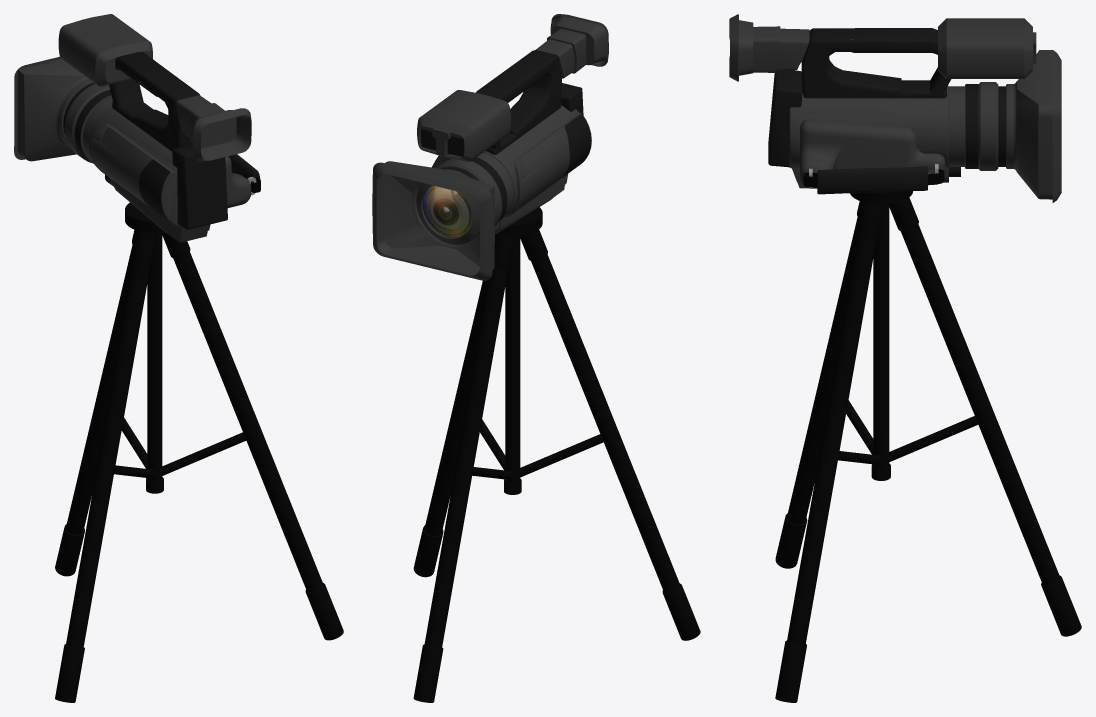
The model's file is studio-cam.glb.
The picture shows the model from 3 angles, left to right: view 1: azimuth 30°, elevation 25°; view 2: azimuth 150°, elevation 25°; view 3: azimuth 270°, elevation 25°; orthographic projection. The views are drawn at different scales.
Visible parts, largest first — view 1: video_camera_3, tripod_4; view 2: video_camera_3, tripod_4; view 3: video_camera_3, tripod_4.
Part boxes in pixels (box(x1,y1,x2,y2)): video_camera_3: box(14, 14, 260, 242); tripod_4: box(55, 202, 343, 702); video_camera_3: box(372, 14, 608, 280); tripod_4: box(413, 207, 700, 702); video_camera_3: box(729, 14, 1061, 202); tripod_4: box(775, 191, 1081, 702).
Bounding box in the file's own units: 1.1 × 2.11 × 1.11.
Materials: 7 (1 with a texture image).
